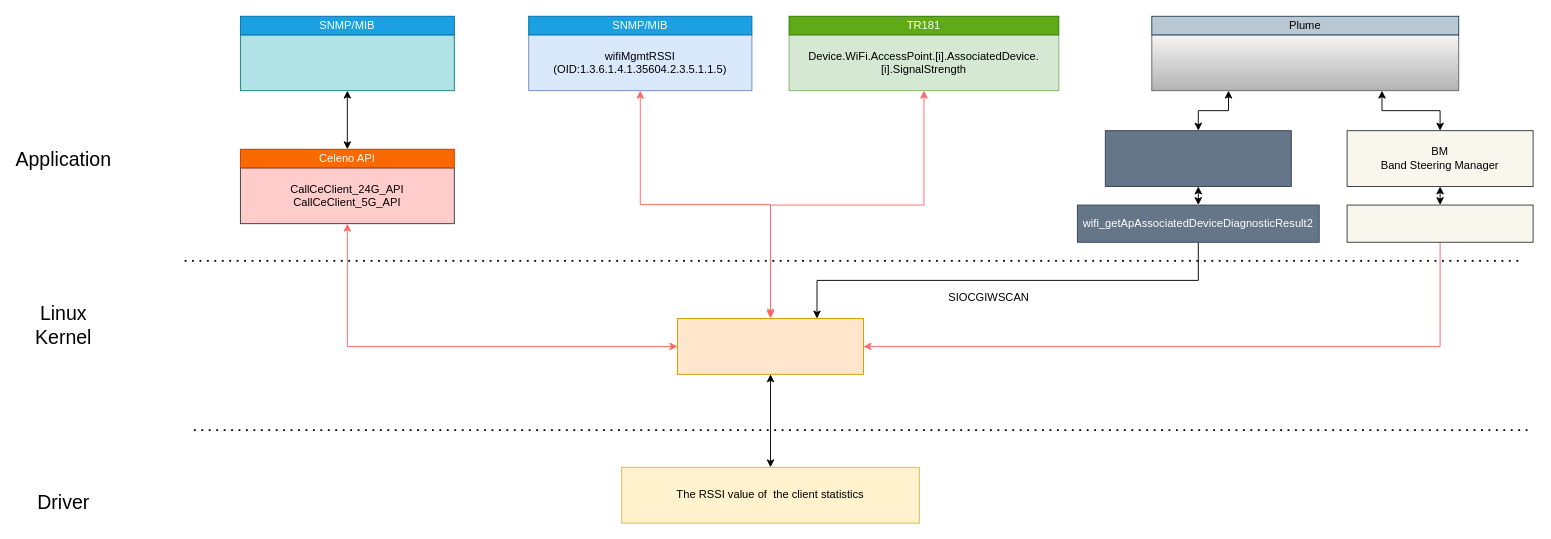
The diagram is 1551 pixels wide and 539 high, and some of its shapes have lost their labels. The shapes that lost their labels are listed below. From the top down, each one's centre as x and y in pixels, then its label:
At (346,62): "wifiMgmtClientStatsRSSI (OID:1.3.6.1.4.1.35604.2.3.13.1.1.5)".
At (1305,62): "TBD".
At (1197,158): "SM Statistic Manager".
At (1439,223): "wifi_steering_eventRegister".
At (770,346): "ioctl".
